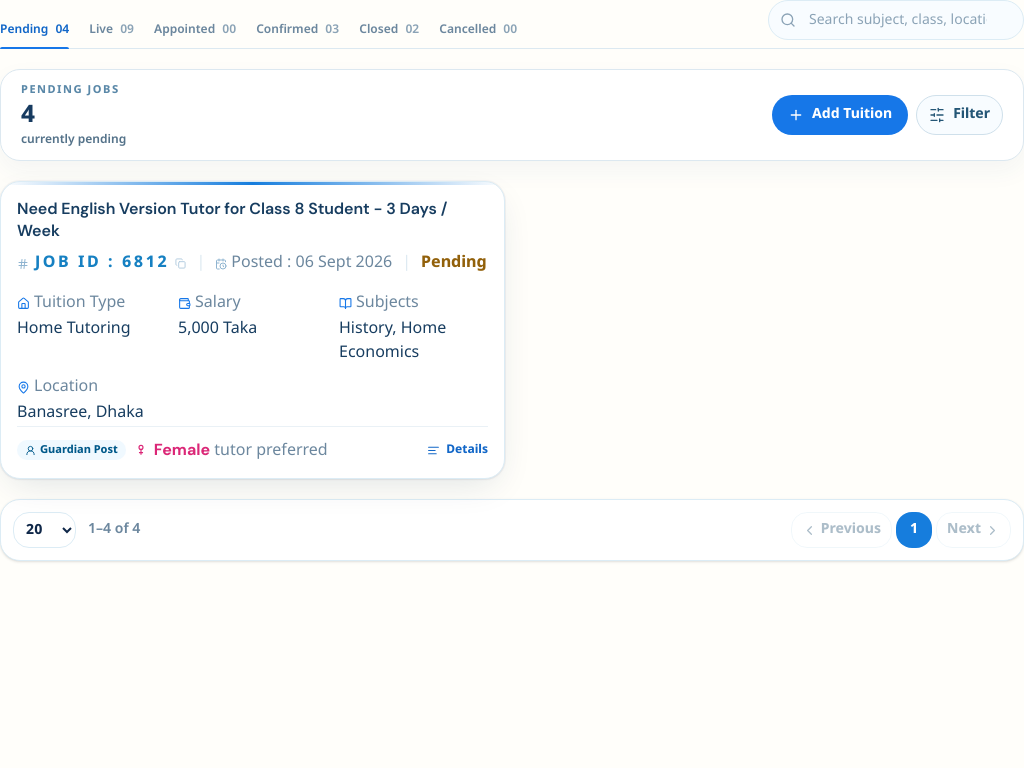
it: Admin Posted jobs board › keeps a tuition's history closed in the details dialog, and reads it only once opened
Click the button named "Job ID 6812": (252, 330) x1=0 y1=181 x2=505 y2=479
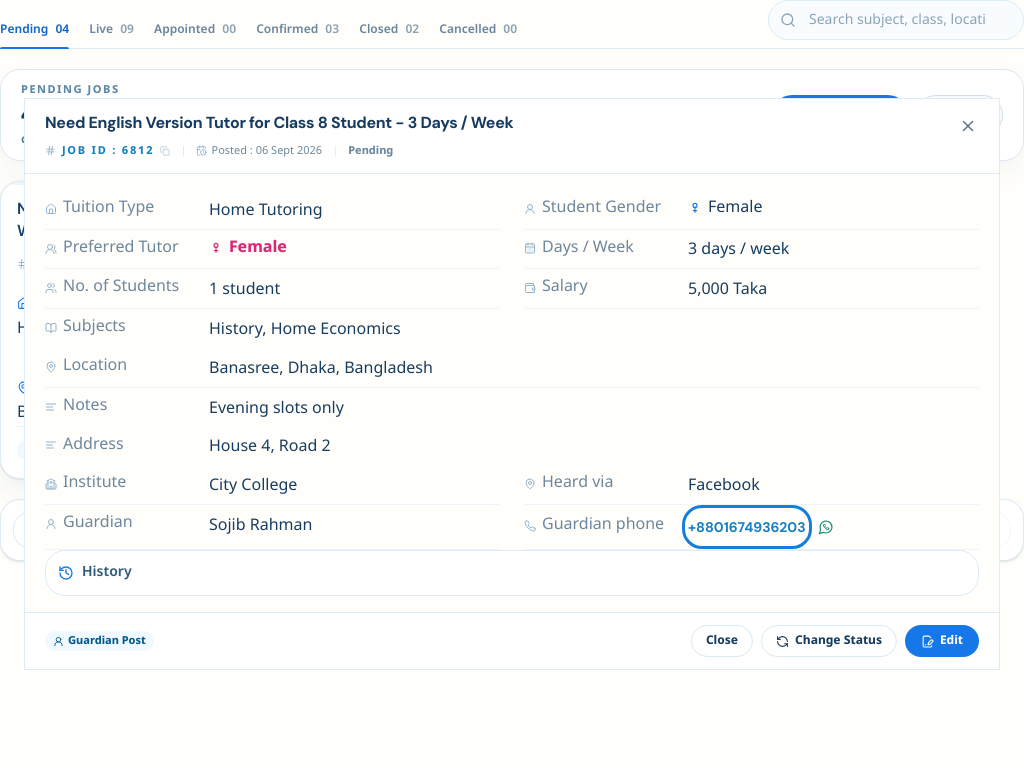
Expected: the text "Edited by an Admin" is not shown
Now the heading "History" is shown
Click the heading "History": (95, 573) x1=58 y1=563 x2=132 y2=582
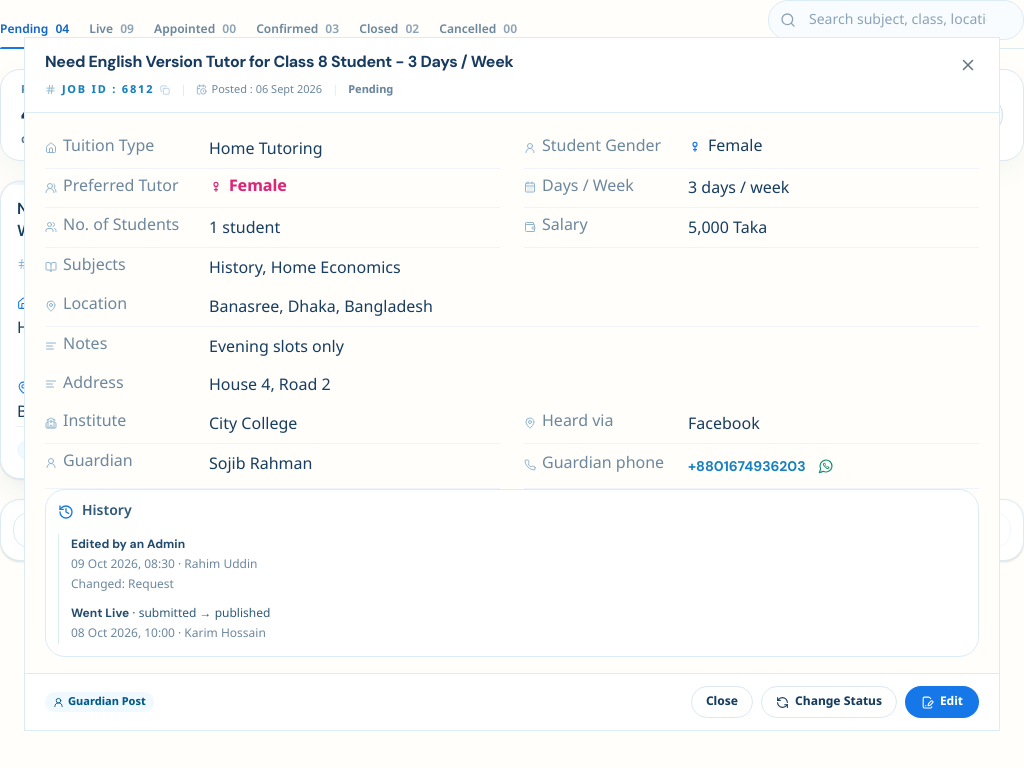
Now the text "Edited by an Admin" is shown, box x1=71 y1=536 x2=185 y2=552
Now the text "09 Oct 2026, 08:30 · Rahim Uddin" is shown, box x1=71 y1=557 x2=258 y2=573
Now the text "Changed: Request" is shown, box x1=71 y1=577 x2=174 y2=593
